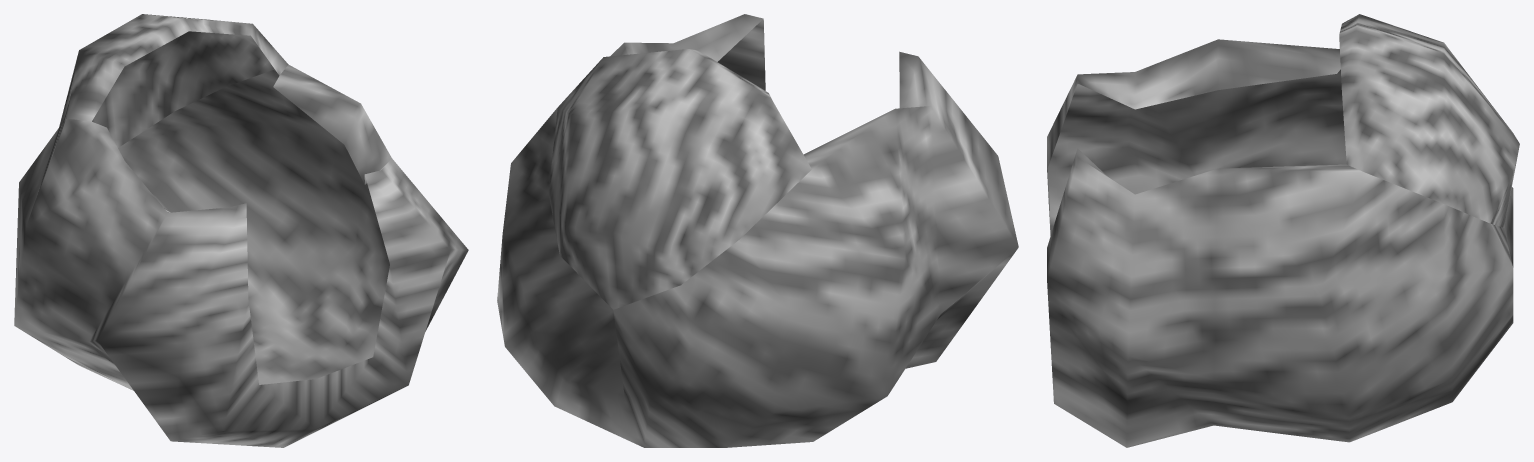
File: Wig_F_Hair_Bob.fbx
3 renders of one model, left to right at view 1: azimuth 30°, elevation 25°; view 2: azimuth 150°, elevation 25°; view 3: azimuth 270°, elevation 25°, orthographic. The views are drawn at different scales.
Visible parts, largest first — view 1: BoxOfJars003; view 2: BoxOfJars003; view 3: BoxOfJars003.
Part boxes in pixels (x1,y1,x2,y2): BoxOfJars003: [14, 14, 468, 447]; BoxOfJars003: [497, 14, 1018, 447]; BoxOfJars003: [1047, 14, 1519, 447].
Bounding box in the file's own units: 16.03 × 14.63 × 15.77.
